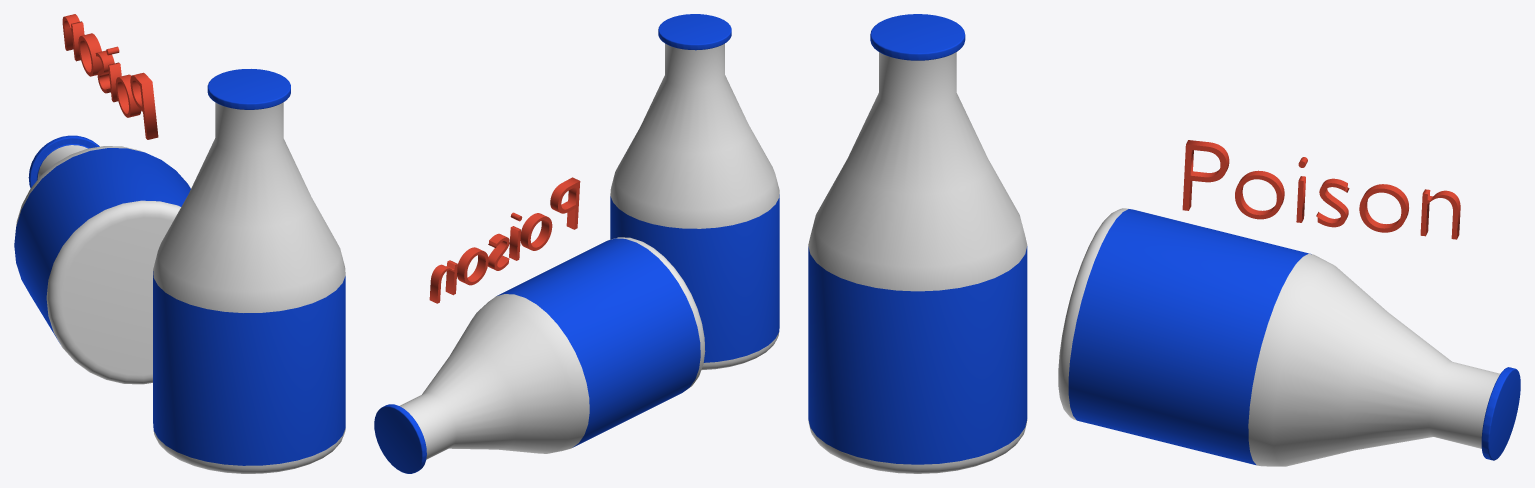
The model's file is bleach-bottle.glb.
3 views of the same model, side by side, from view 1: azimuth 30°, elevation 25°; view 2: azimuth 150°, elevation 25°; view 3: azimuth 270°, elevation 25° (orthographic). The views are drawn at different scales.
Visible parts, largest first — view 1: bottle, bottle.001, Text; view 2: bottle.001, bottle, Text; view 3: bottle.001, bottle, Text.
Part boxes in pixels (bbox=[...]): bottle: bbox=[153, 69, 345, 473]; bottle.001: bbox=[14, 135, 190, 384]; Text: bbox=[62, 14, 158, 139]; bottle.001: bbox=[374, 237, 705, 473]; bottle: bbox=[610, 14, 779, 370]; Text: bbox=[429, 177, 580, 303]; bottle.001: bbox=[1058, 208, 1520, 466]; bottle: bbox=[808, 14, 1027, 473]; Text: bbox=[1182, 140, 1460, 239].
Size of the model in its own units: 2.61 by 4.16 by 6.5.
